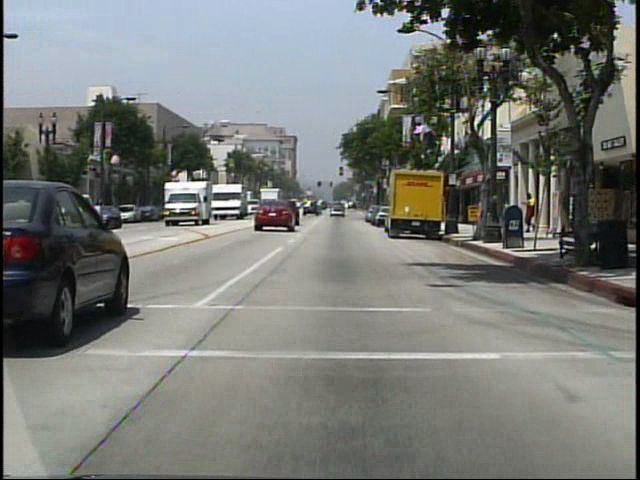person: (518, 193, 535, 236)
